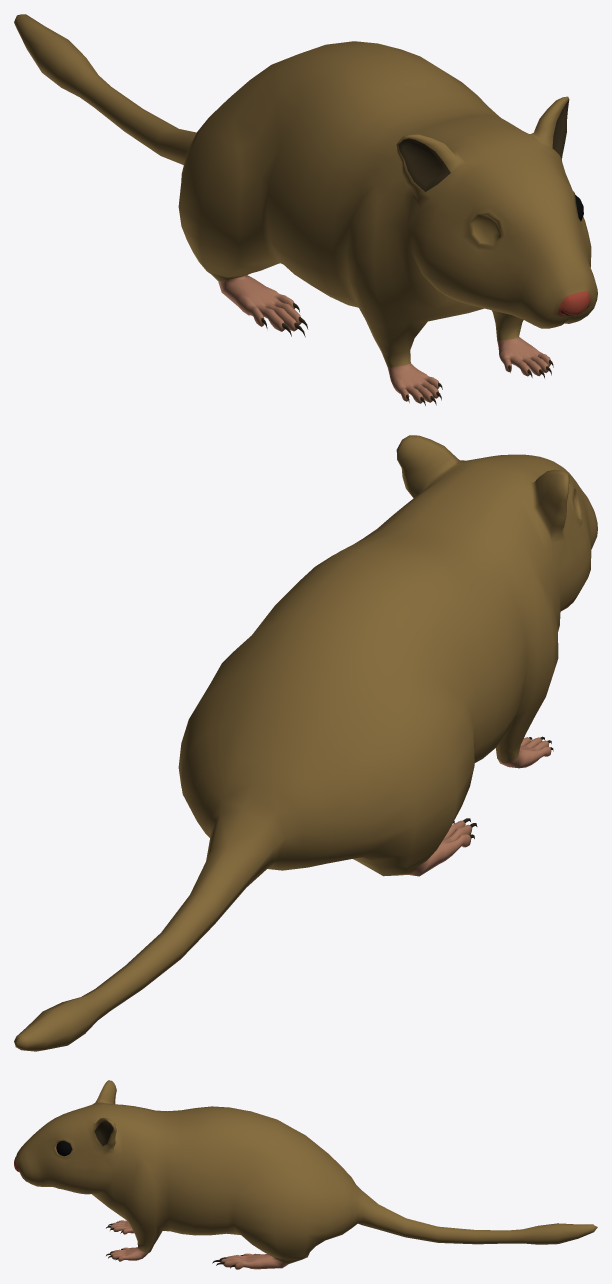
Rendered from gerbil.obj.
3 renders of one model, top to bottom at view 1: azimuth 30°, elevation 25°; view 2: azimuth 150°, elevation 25°; view 3: azimuth 270°, elevation 25°, orthographic. The views are drawn at different scales.
Visible parts, largest first — view 1: gerbil; view 2: gerbil; view 3: gerbil.
Boxes of the visible parts, x1,y1,x2,y2 form: gerbil: [14, 14, 597, 405]; gerbil: [14, 435, 597, 1051]; gerbil: [14, 1080, 597, 1269].
Bounding box in the file's own units: 0.0455 × 0.0468 × 0.172.
